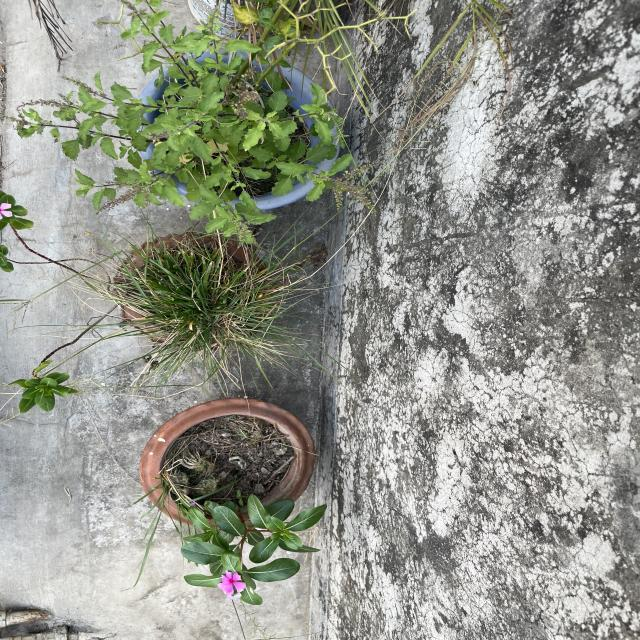Breeding Place: (134, 54, 338, 208), (145, 401, 316, 543)
